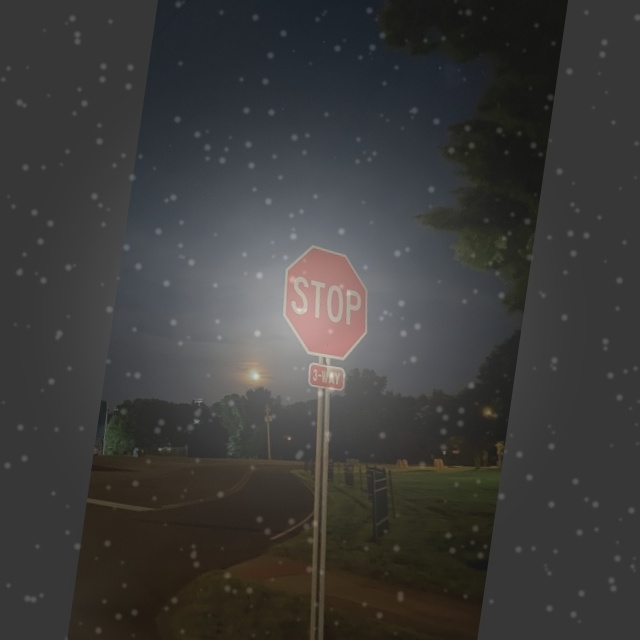Stop: (274, 242, 379, 364)
